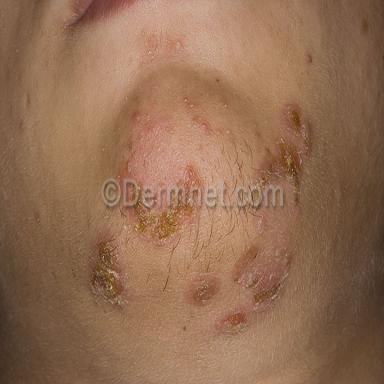Impetigo: (261, 108, 310, 203), (234, 245, 292, 310), (132, 206, 195, 243), (91, 242, 125, 305), (187, 276, 219, 305), (217, 313, 247, 333)
